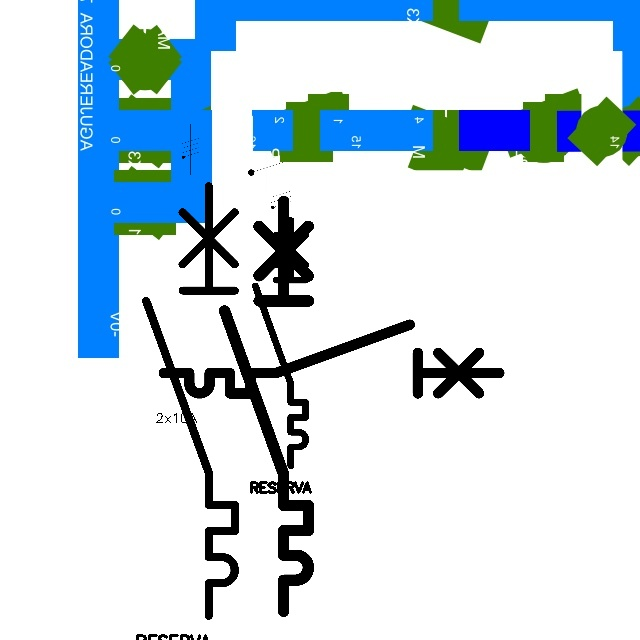interruptor_termomagnetico: (135, 175, 246, 627), (214, 190, 319, 621), (155, 316, 508, 402), (249, 214, 312, 472)
